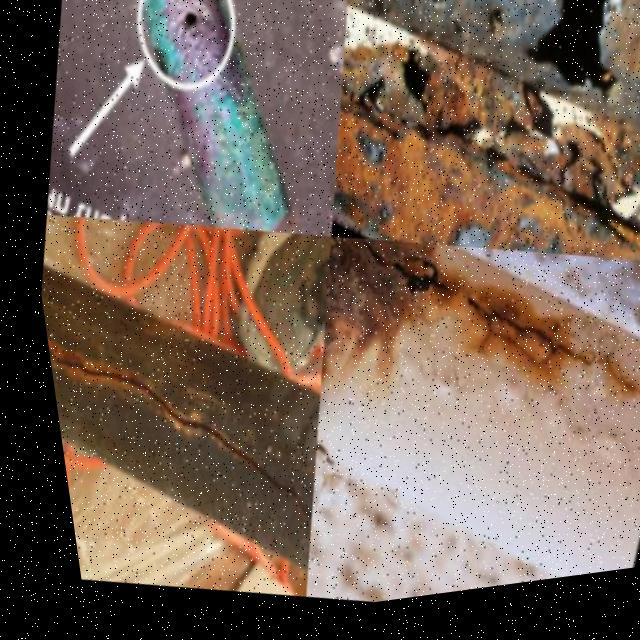crack: (39, 346, 299, 526), (436, 282, 606, 417)
hole: (502, 1, 640, 152), (378, 257, 455, 344), (478, 19, 520, 72), (303, 329, 337, 391), (417, 1, 460, 49), (442, 31, 481, 77), (171, 12, 208, 56), (623, 75, 640, 162), (342, 1, 369, 31)
